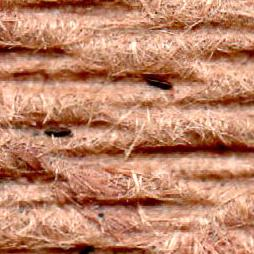egg: (144, 74, 171, 89), (44, 128, 71, 136), (80, 247, 93, 253)
